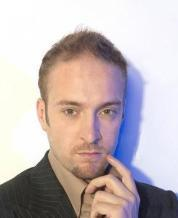face: (59, 99, 120, 160)
